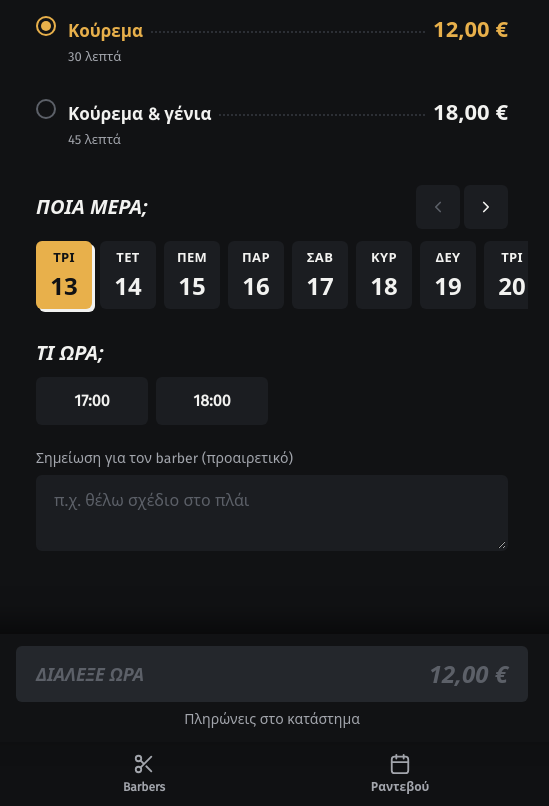
Test: asks the customer to pick another time when the slot was just taken
(page scrolled)
Click the button "18:00" at (212, 401), box [156,377,268,425]
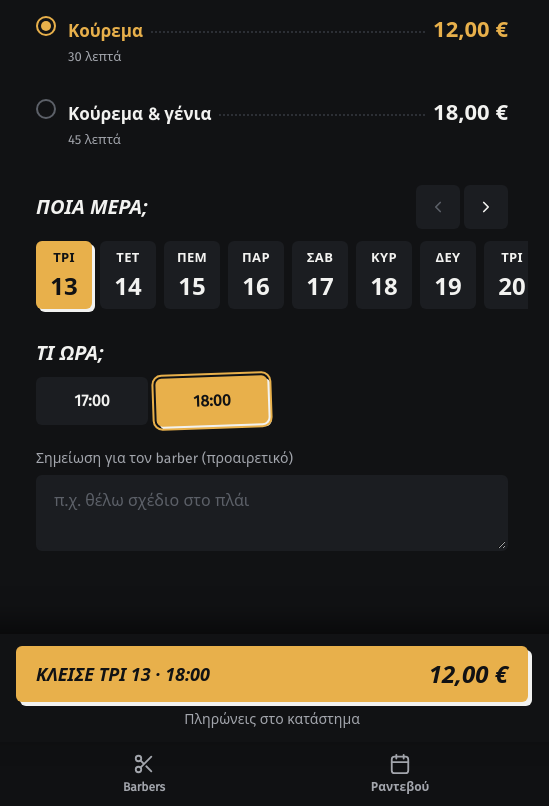
Click the button "Κλείσε Τρί 13 · 18:00 12,00 €" at (123, 674), box [16,646,528,702]
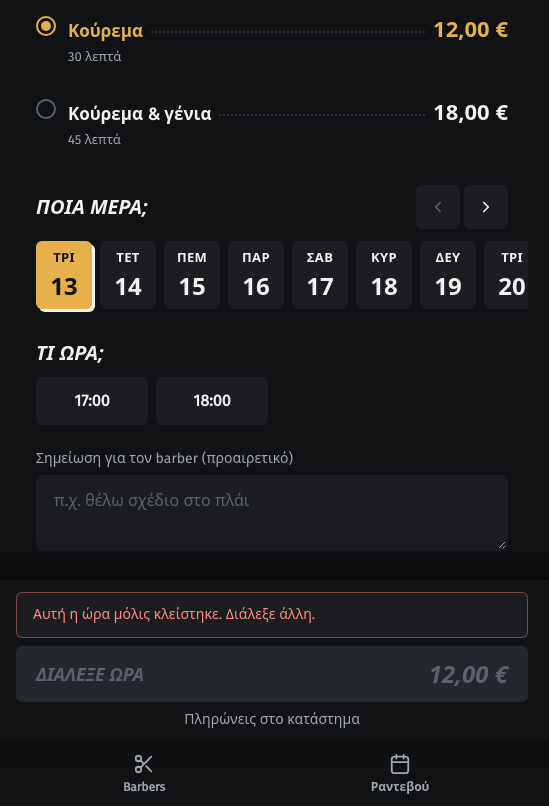
expect the message shows "Αυτή η ώρα μόλις κλείστηκε": met, box [33,606,315,623]
expect the button "Διάλεξε ώρα 12,00 €" is disabled: met, box [16,646,528,702]
